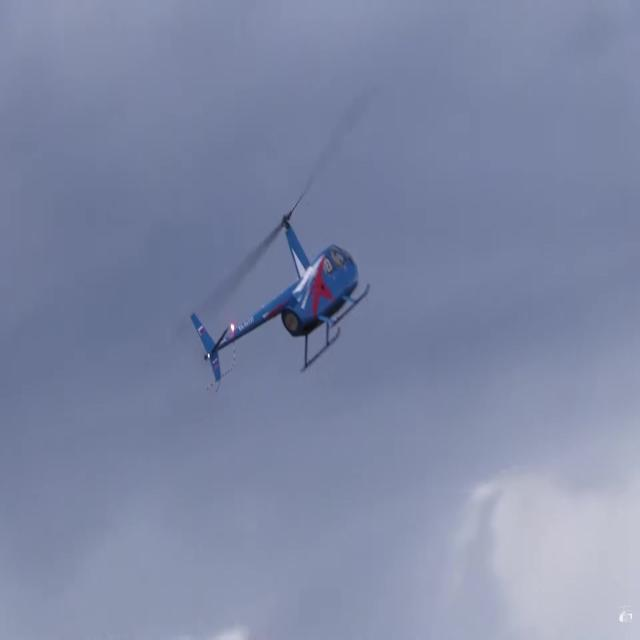CIV_HELO: (188, 209, 372, 391)
